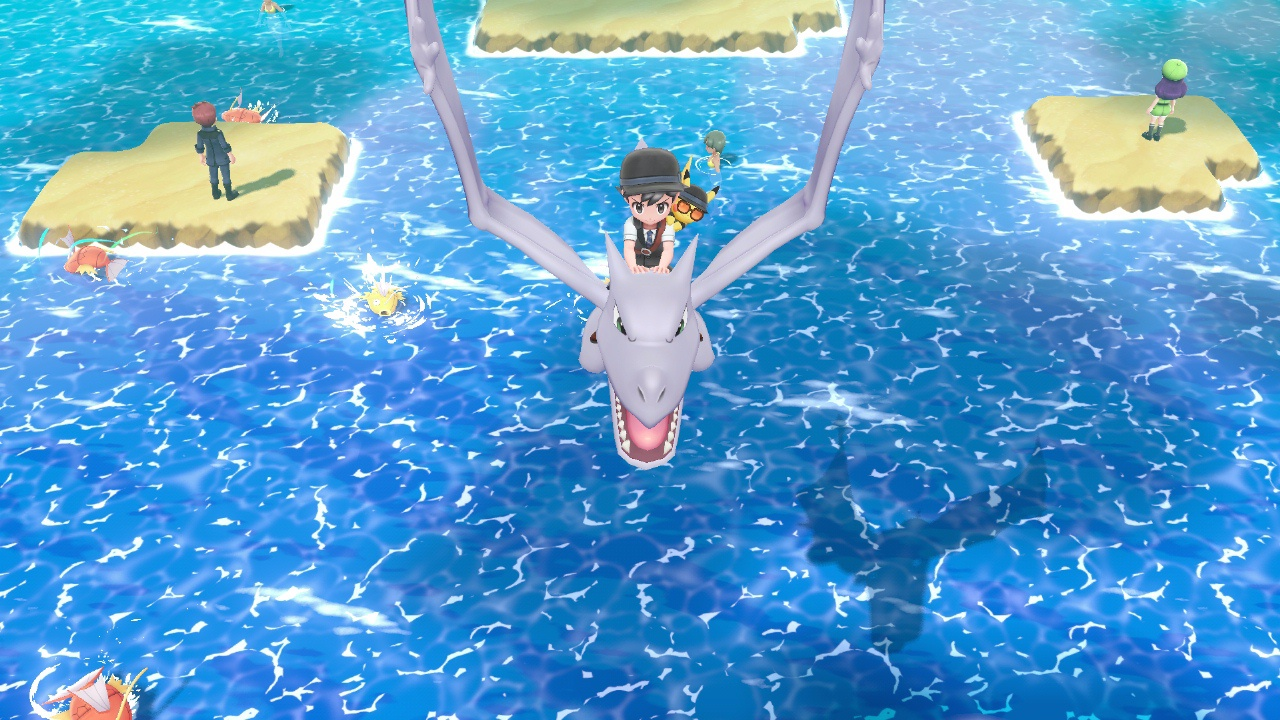Golden: (356, 277, 409, 316)
